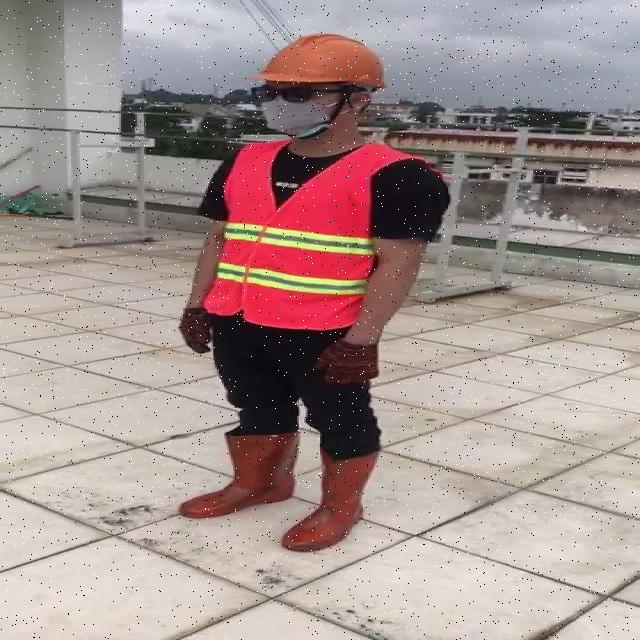Hard_hat: (251, 27, 397, 102)
Person: (176, 30, 452, 607)
Vest: (216, 134, 382, 332)
